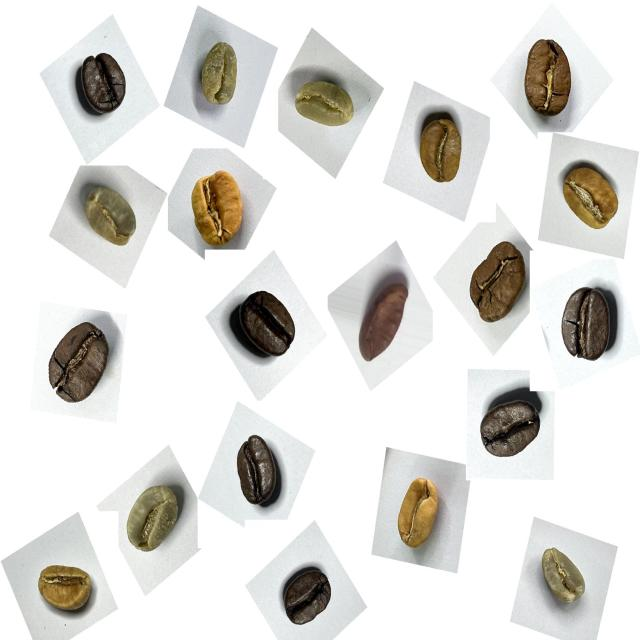bad: (348, 268, 418, 375)
dark: (228, 279, 308, 372), (548, 277, 626, 372), (470, 388, 549, 476), (221, 424, 291, 518), (66, 41, 138, 128), (276, 558, 344, 640)
green: (114, 473, 189, 567), (74, 174, 147, 262), (285, 69, 363, 147), (528, 538, 598, 619), (189, 33, 253, 121)
light: (181, 161, 255, 258), (552, 154, 628, 246), (408, 104, 475, 198), (386, 465, 452, 559), (30, 548, 104, 626)
medium: (34, 309, 118, 418), (456, 233, 532, 337), (509, 30, 584, 130)
